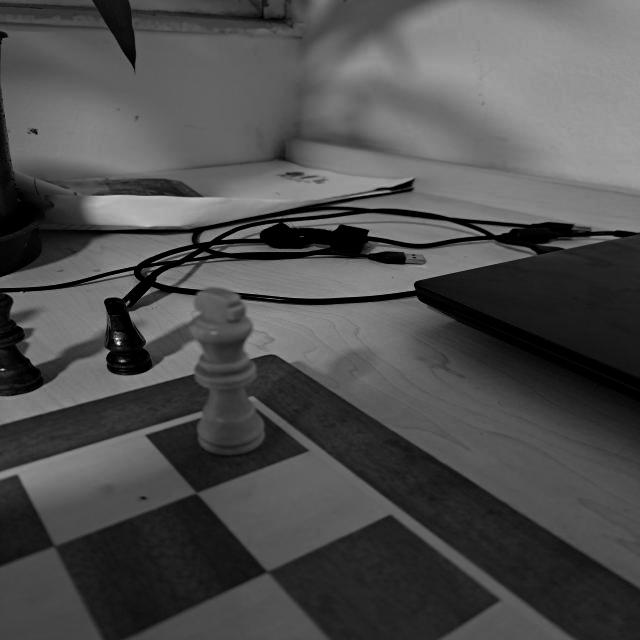chess-table-corners: (179, 386, 301, 444)
